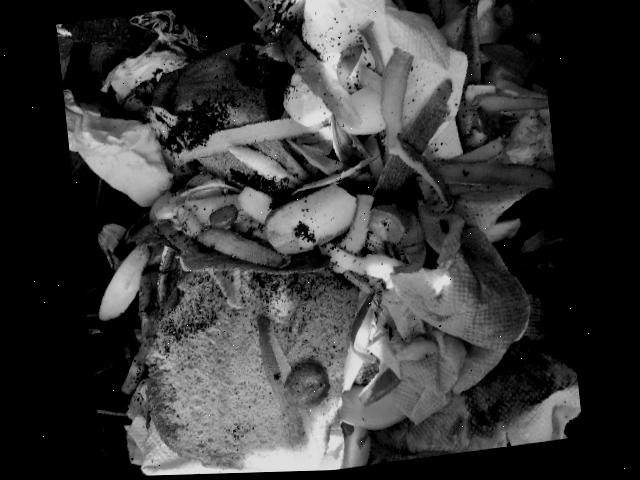Garbage: (64, 0, 582, 477)
